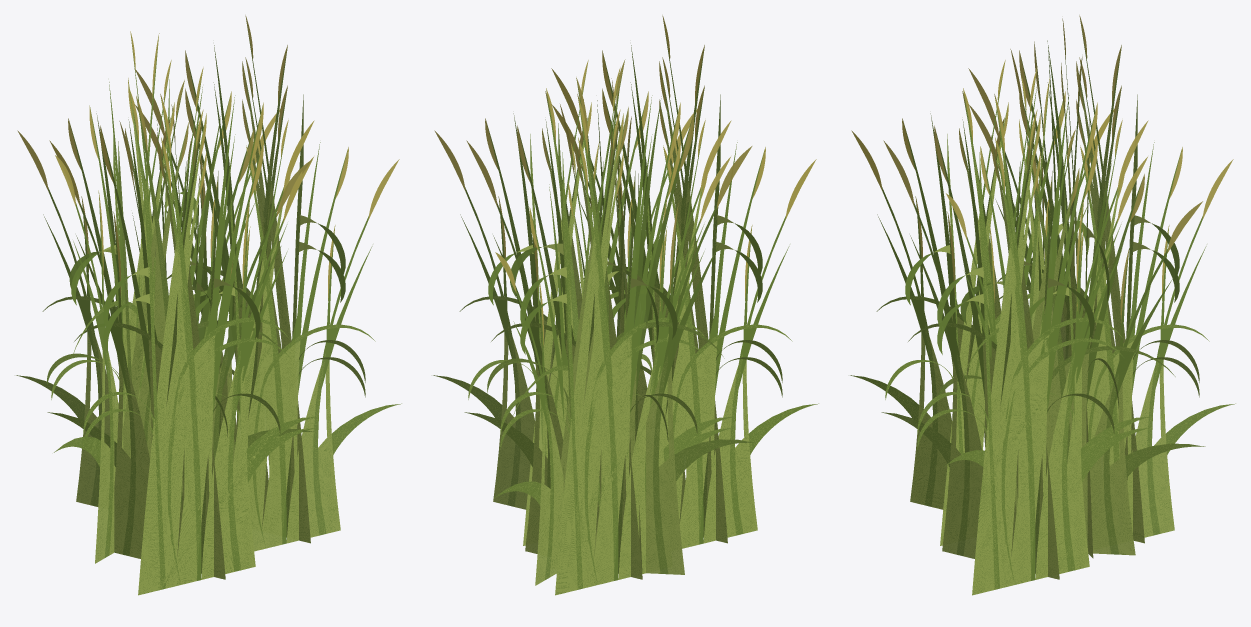
Rendered from Indian Grass.dae.
3 renders of one model, left to right at view 1: azimuth 30°, elevation 25°; view 2: azimuth 150°, elevation 25°; view 3: azimuth 270°, elevation 25°, orthographic.
Parts seen in each view (by area): view 1: group_1 (×16), group_3 (×13), group_2 (×11), group_4 (×9), group_13 (×6), group_15 (×5); view 2: group_1 (×15), group_3 (×15), group_2 (×10), group_13 (×9), group_4 (×11), group_14 (×4); view 3: group_1 (×14), group_3 (×16), group_2 (×12), group_4 (×13), group_14 (×8), group_15 (×2), group_13.
Boxes of the visible parts, <box> form: group_1 (×16): <box>138,45,316,595</box>; group_3 (×13): <box>16,121,401,551</box>; group_2 (×11): <box>145,133,310,588</box>; group_4 (×9): <box>74,110,225,579</box>; group_13 (×6): <box>72,37,158,563</box>; group_15 (×5): <box>118,98,283,501</box>; group_1 (×15): <box>555,45,733,595</box>; group_3 (×15): <box>433,113,818,548</box>; group_2 (×10): <box>562,133,727,589</box>; group_13 (×9): <box>558,78,753,574</box>; group_4 (×11): <box>464,91,647,579</box>; group_14 (×4): <box>535,184,568,585</box>; group_1 (×14): <box>972,49,1150,594</box>; group_3 (×16): <box>850,113,1235,537</box>; group_2 (×12): <box>972,134,1149,595</box>; group_4 (×13): <box>881,91,1059,579</box>; group_14 (×8): <box>1027,145,1205,555</box>; group_15 (×2): <box>963,79,1049,377</box>; group_13: <box>1024,59,1082,359</box>.
Size of the model in its own units: 34.96 by 34.87 by 50.81.
